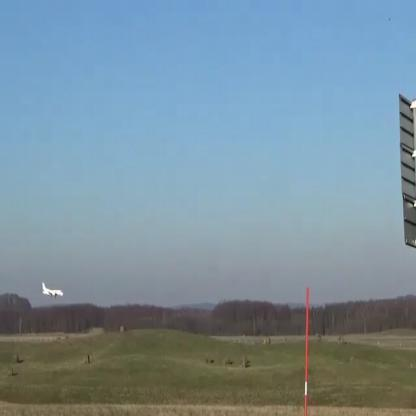aircraft: (41, 281, 64, 296)
